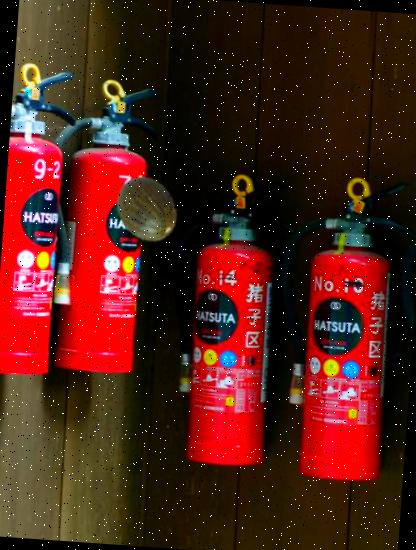Melon: (112, 174, 183, 244)
